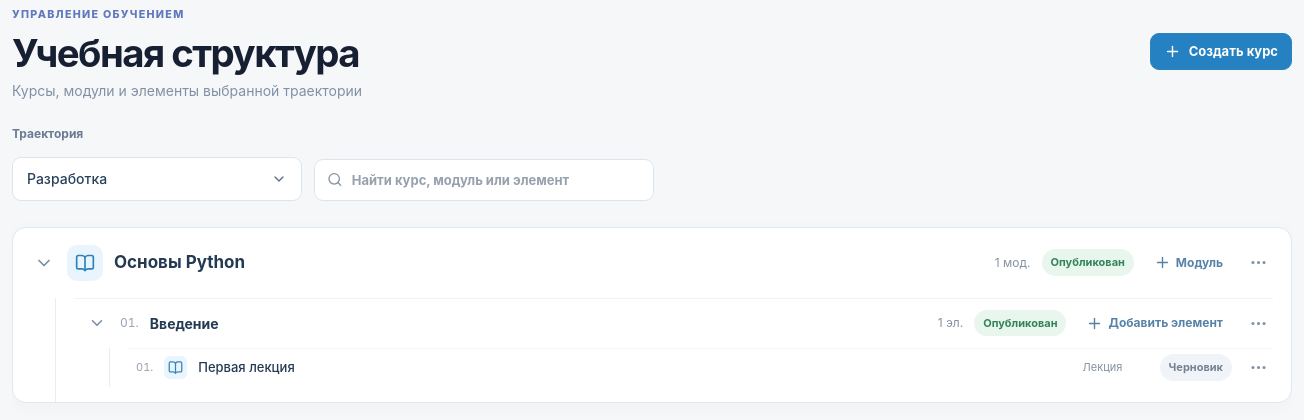
Test case: curriculum explorer › navigates directly from course, module, and learning item names
Click the link "Основы Python". click: click(180, 262)
box: [114, 252, 245, 272]
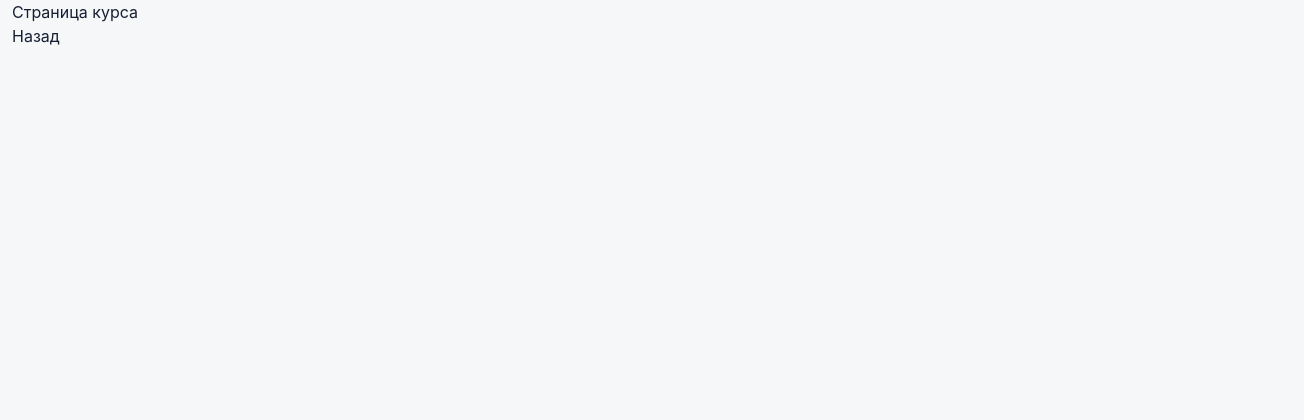
Now the text "Страница курса" is shown, box [12, 2, 138, 22]
